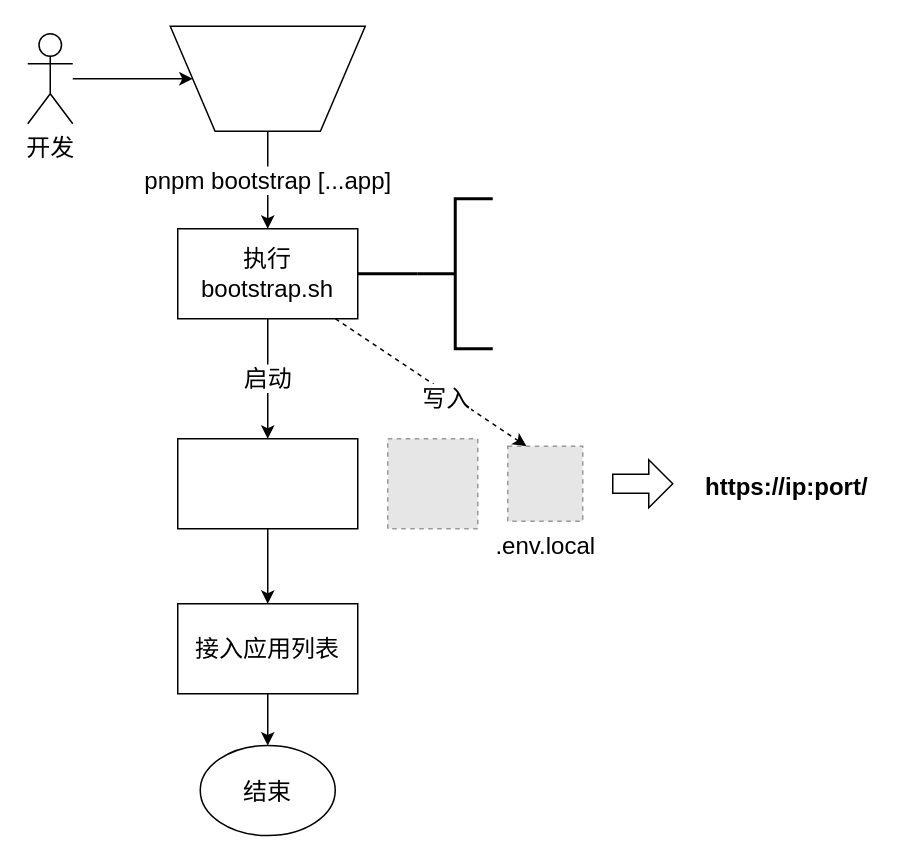
Image size: 923x863. Some labels were removed from this diagram. Grey dashed boxes stand in for pictures. The box of each missing label's shape, as (x1, y1, x2, y2) in pixels:
appName: (169, 25, 365, 131)
对应的应用: (176, 437, 358, 529)
获取本机 IP 生成 VUE_APP_MICRO 给子应用分配端口 APP_PORT 拼接 pnpm --filter=appName run dev: (416, 196, 494, 350)
